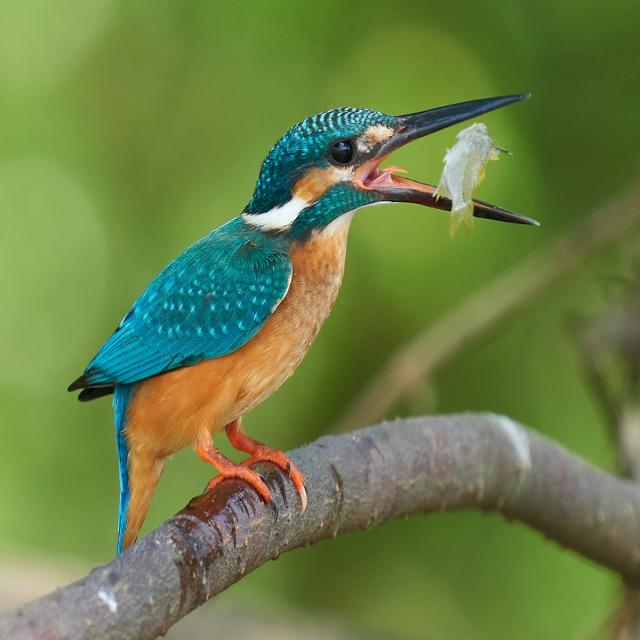kingfisher: (67, 90, 575, 566)
